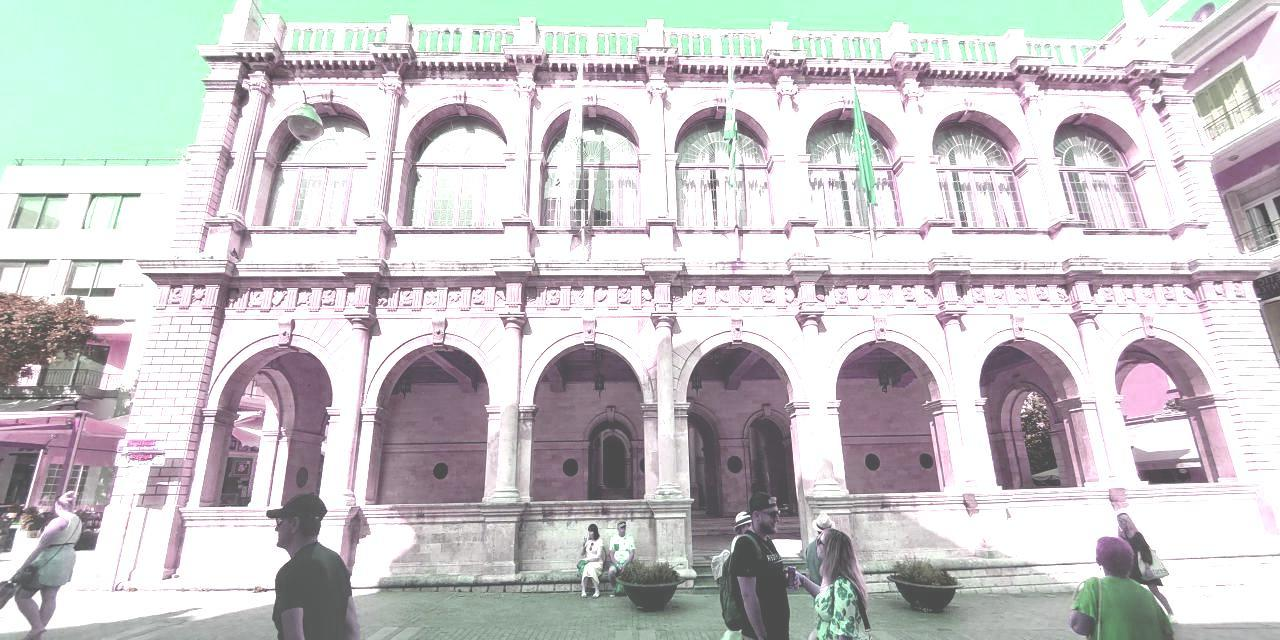Loggia: (73, 1, 1280, 593)
